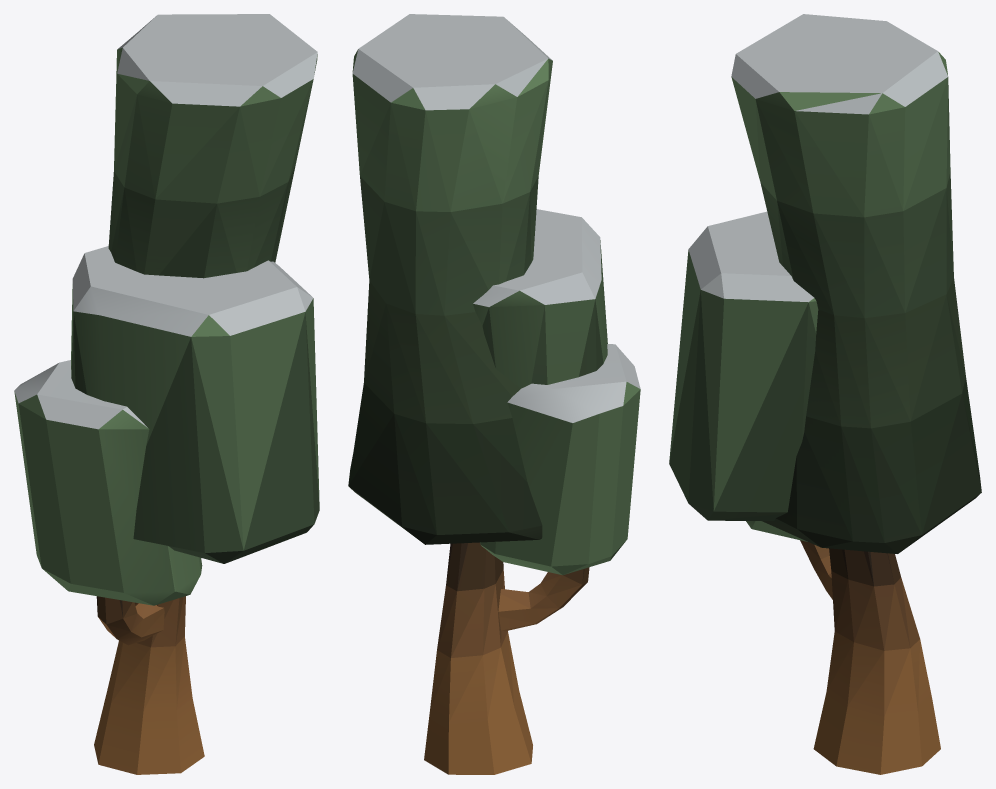
File: angular_tree_stack__winter.glb
3 renders of one model, left to right at view 1: azimuth 30°, elevation 25°; view 2: azimuth 150°, elevation 25°; view 3: azimuth 270°, elevation 25°, orthographic. The views are drawn at different scales.
Size of the model in its own units: 2.04 by 5 by 1.98.
